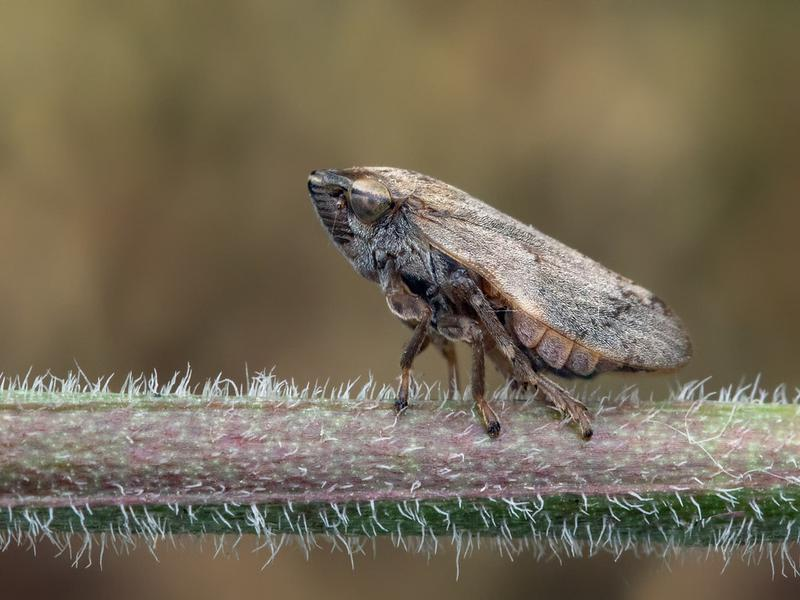Brown_plant_leafhopper: (297, 135, 700, 455)
